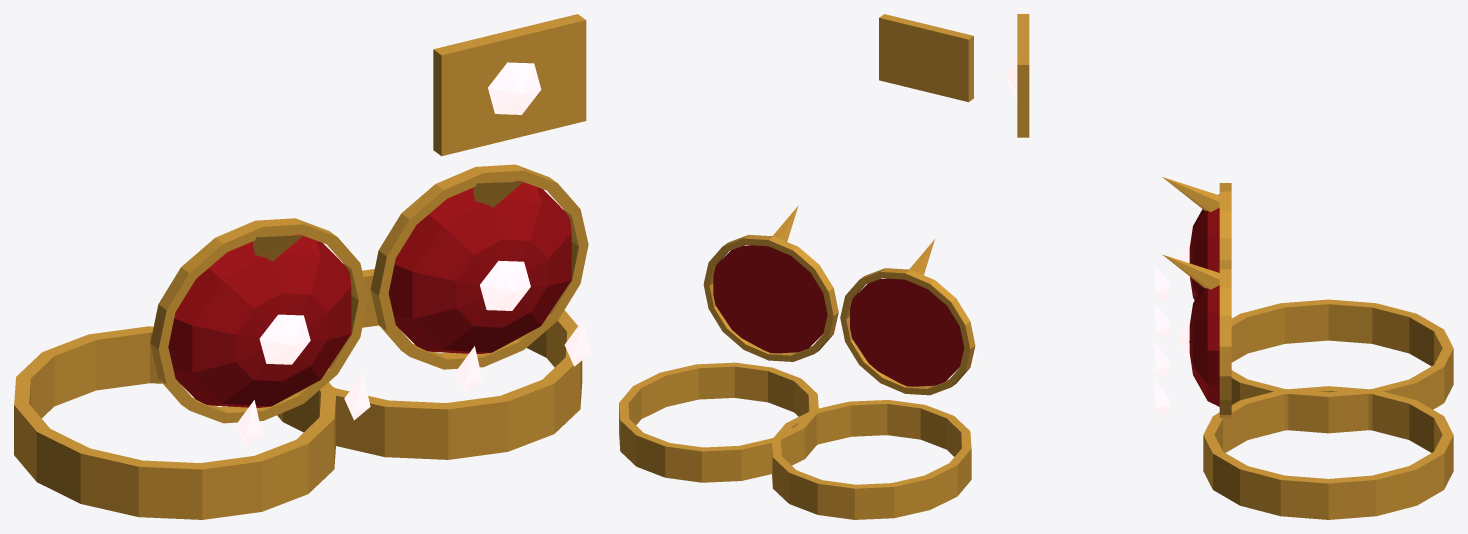
File: armor_lord_legs_mythic_orc.glb
3 renders of one model, left to right at view 1: azimuth 30°, elevation 25°; view 2: azimuth 150°, elevation 25°; view 3: azimuth 270°, elevation 25°, orthographic. The views are drawn at different scales.
Parts seen in each view (by area): view 1: armor_lord_legs_mythic_orc__calf_r, armor_lord_legs_mythic_orc__calf_l, armor_lord_legs_mythic_orc__pelvis; view 2: armor_lord_legs_mythic_orc__calf_l, armor_lord_legs_mythic_orc__calf_r, armor_lord_legs_mythic_orc__pelvis; view 3: armor_lord_legs_mythic_orc__calf_l, armor_lord_legs_mythic_orc__calf_r, armor_lord_legs_mythic_orc__pelvis.
Boxes of the visible parts, x1,y1,x2,y2 form: armor_lord_legs_mythic_orc__calf_r: (14,218,370,519); armor_lord_legs_mythic_orc__calf_l: (277,164,590,459); armor_lord_legs_mythic_orc__pelvis: (433,14,586,156); armor_lord_legs_mythic_orc__calf_l: (619,205,840,482); armor_lord_legs_mythic_orc__calf_r: (771,239,976,519); armor_lord_legs_mythic_orc__pelvis: (879,14,973,102); armor_lord_legs_mythic_orc__calf_l: (1154,254,1453,519); armor_lord_legs_mythic_orc__calf_r: (1154,177,1453,433); armor_lord_legs_mythic_orc__pelvis: (1005,14,1029,137).
Size of the model in its own units: 43.39 by 42.7 by 44.66.
